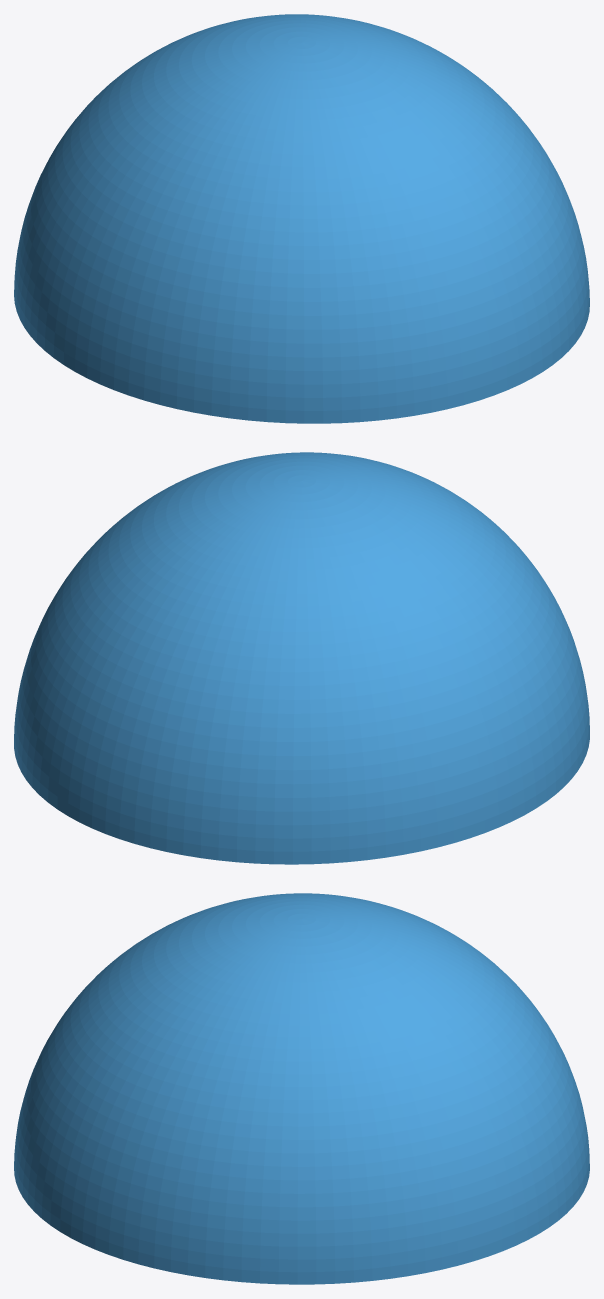
The model's file is Stage_0066.fbx.
3 views of the same model, one above another, from view 1: azimuth 30°, elevation 25°; view 2: azimuth 150°, elevation 25°; view 3: azimuth 270°, elevation 25° (orthographic). The views are drawn at different scales.
Parts seen in each view (by area): view 1: SKY_DOME; view 2: SKY_DOME; view 3: SKY_DOME.
Part boxes in pixels (x1,y1,x2,y2): SKY_DOME: (14,14,589,423); SKY_DOME: (14,452,589,864); SKY_DOME: (14,893,589,1284).
Bounding box in the file's own units: 841177 × 420257 × 880339.
